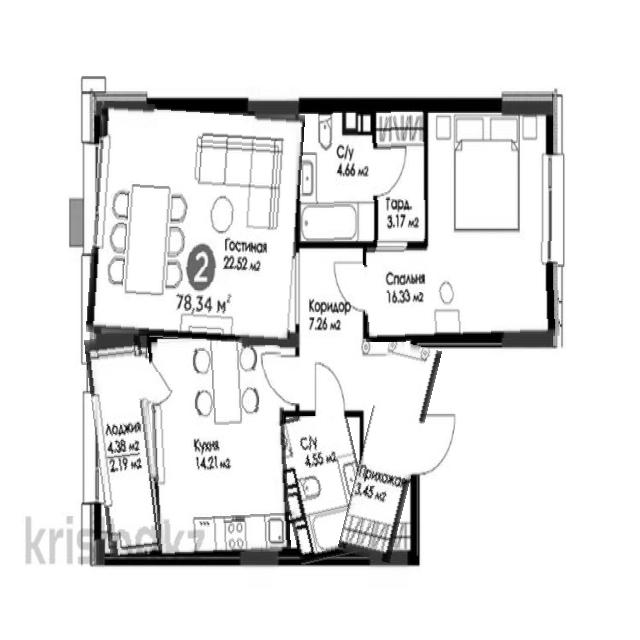balcony: (91, 335, 159, 556)
bathroom: (297, 101, 427, 241), (276, 410, 370, 562)
hallway: (350, 340, 429, 562), (298, 241, 363, 416)
kitchen: (151, 338, 289, 554)
living_room: (90, 105, 302, 343), (364, 242, 559, 341)
